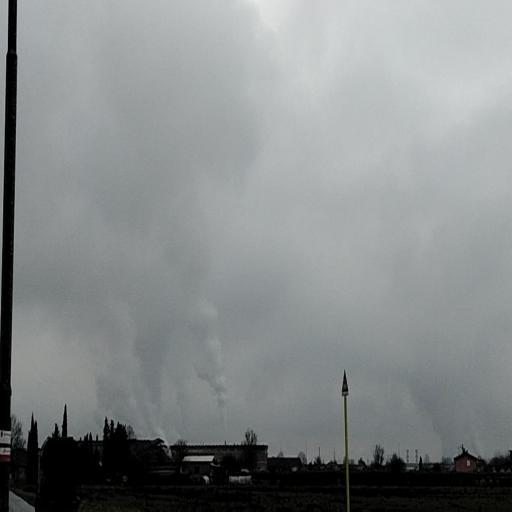leakage: (93, 202, 232, 466)
